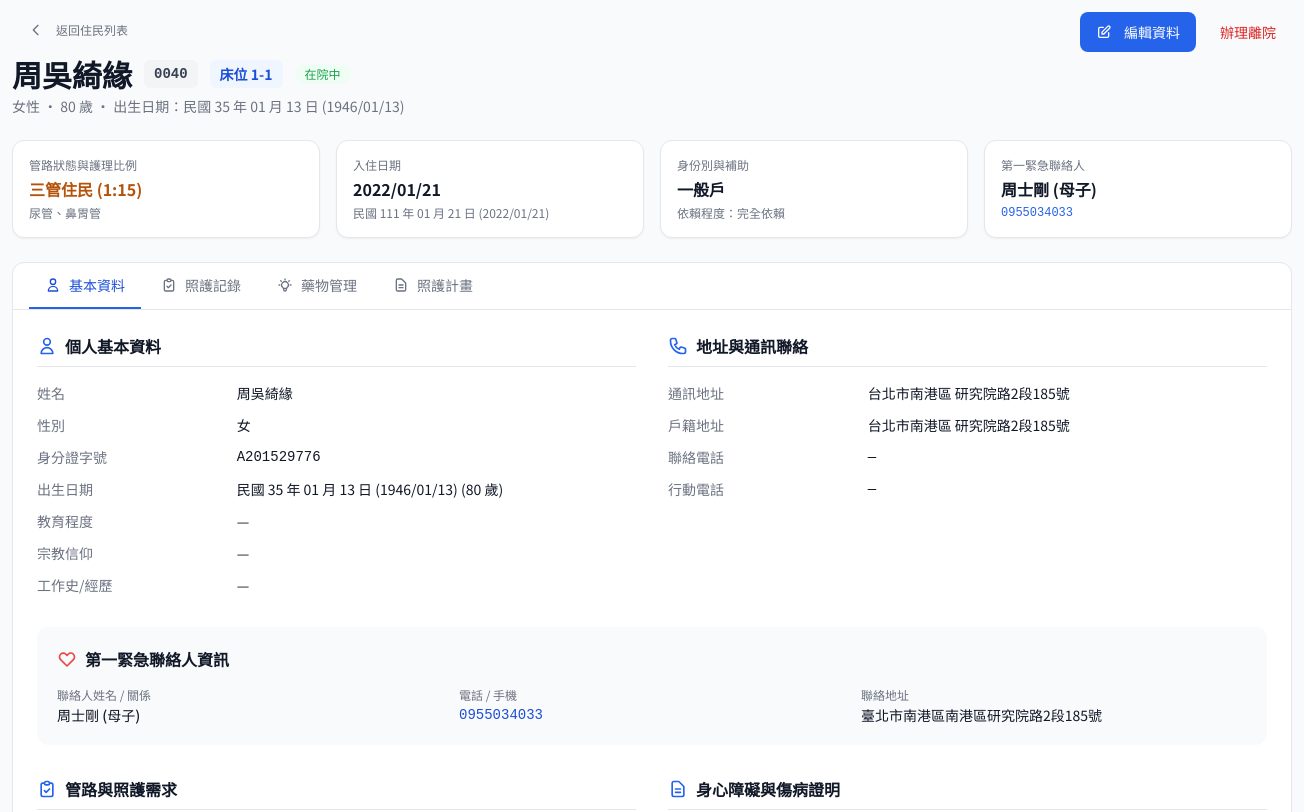
Scenario: ResidentDetailPage › renders embedded active care plan summary card and progress bar in care plan tab
Check: the heading "周吳綺緣" is shown, box [12,56,132,92]
Click the tab "照護計畫" at (433, 286), box [377,263,489,309]
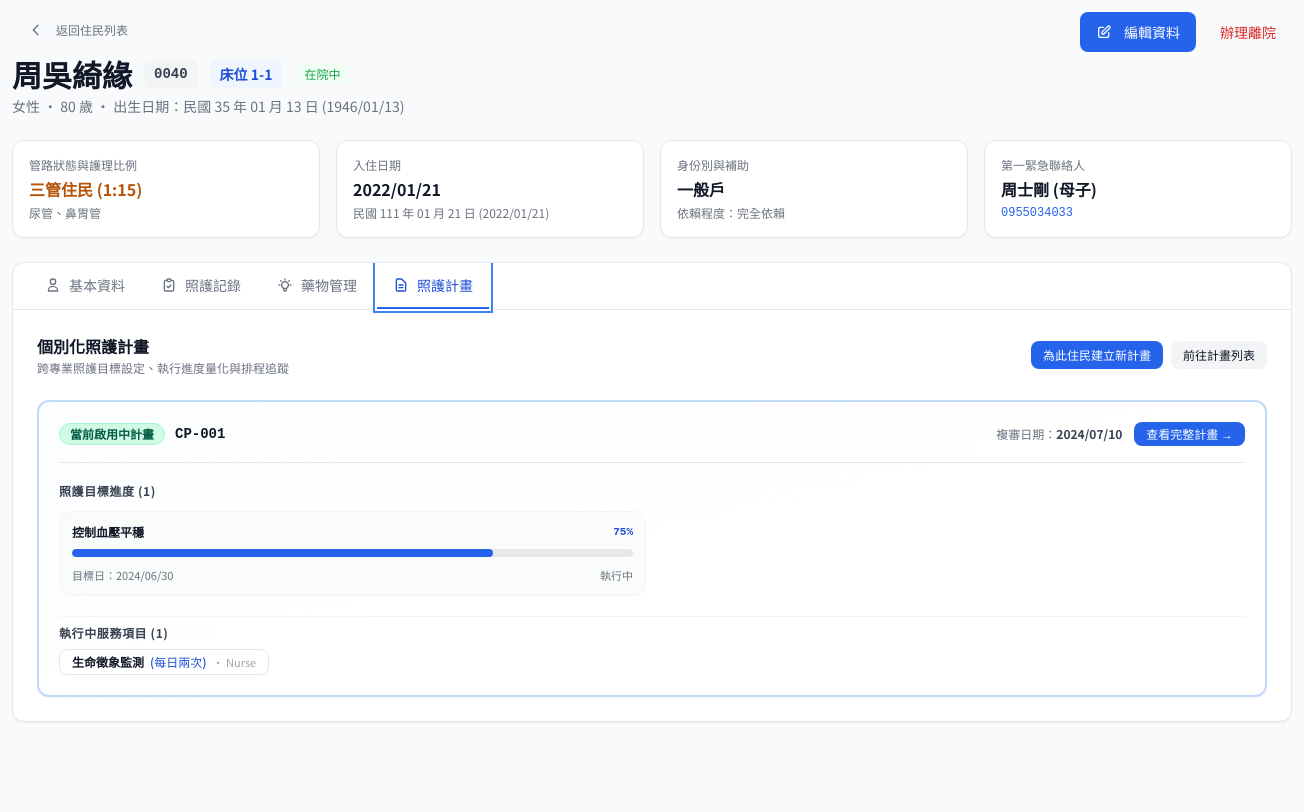
Check: the text "當前啟用中計畫" is shown, box [59,423,165,445]
Check: the text "CP-001" is shown, box [175,424,225,444]
Check: the text "控制血壓平穩" is shown, box [72,524,144,540]
